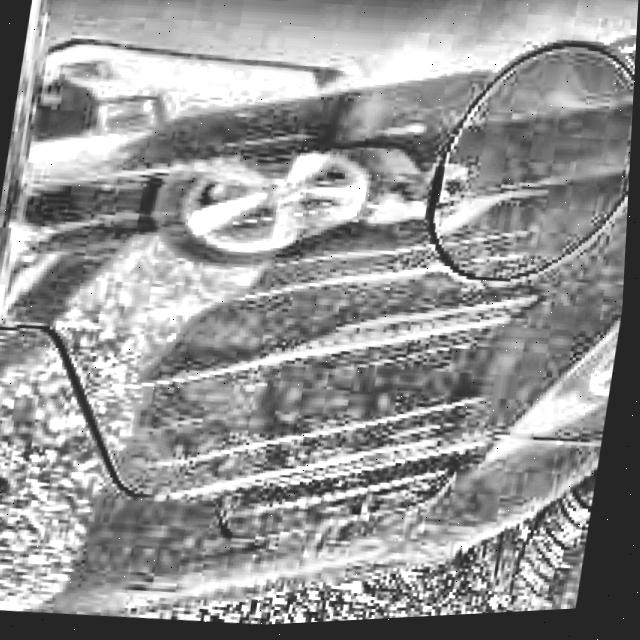bumper_scratch: (110, 248, 568, 583), (0, 84, 402, 301)
